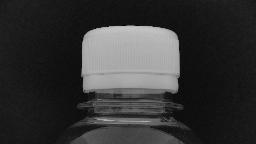Loose Cap: (70, 69, 190, 115)
